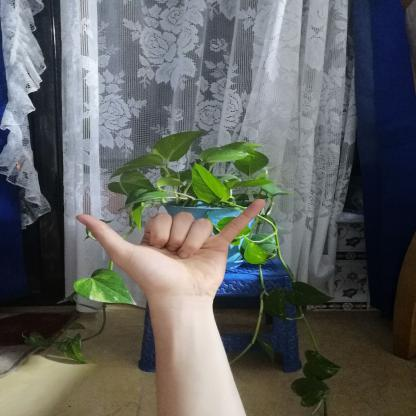YA: (63, 186, 282, 308)
